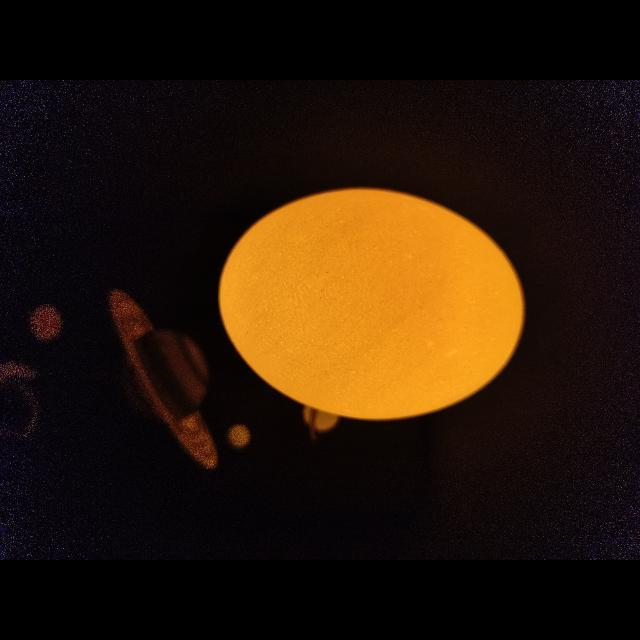AA - Premium: (219, 189, 524, 420)
